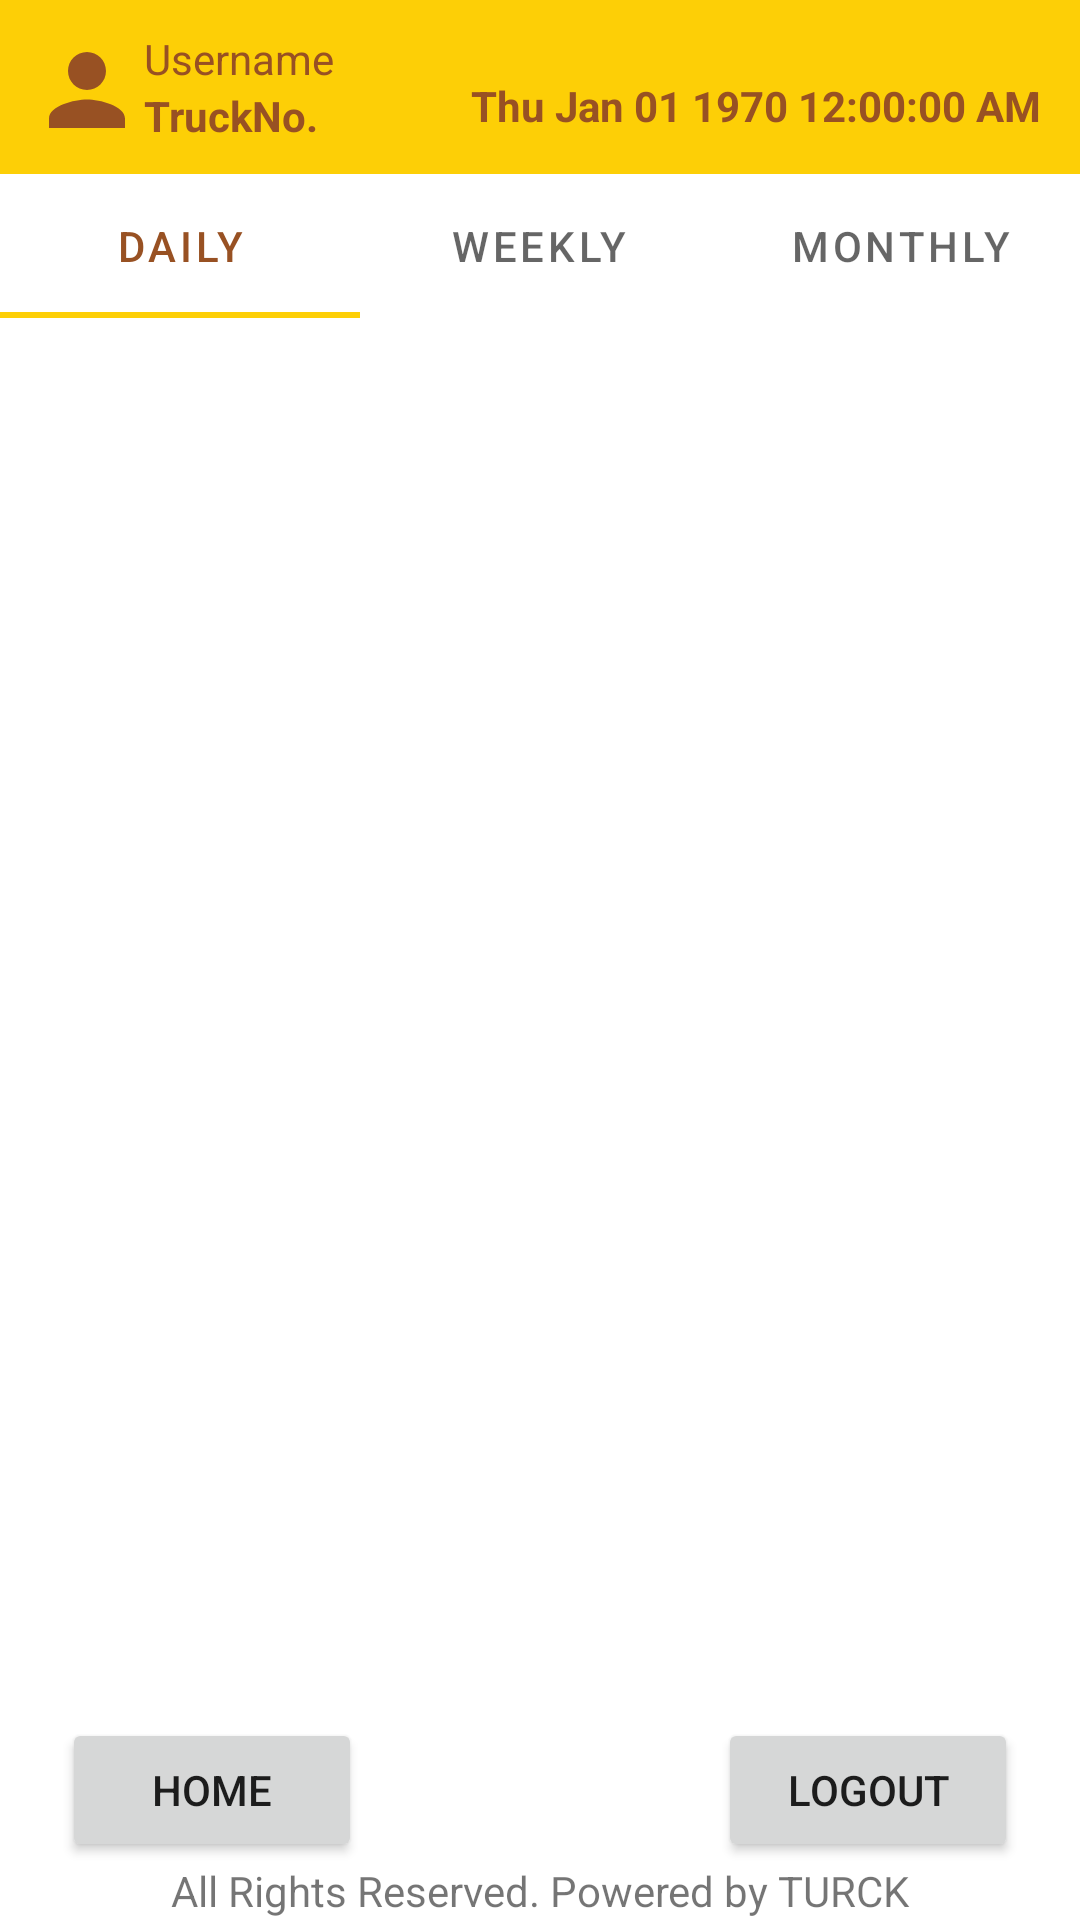

Icons on this 1080px×1920px Android screen, each with its box as [x1,y1,x2,y2]:
person: [49,52,125,128]
